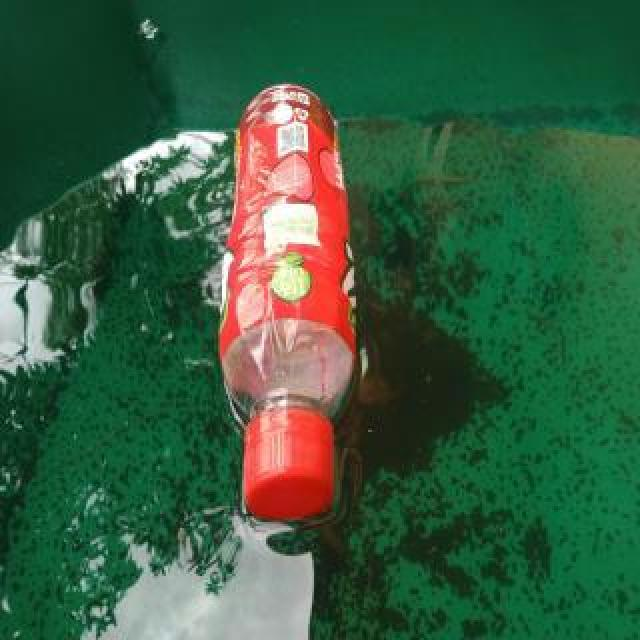bottle: (215, 77, 359, 527)
